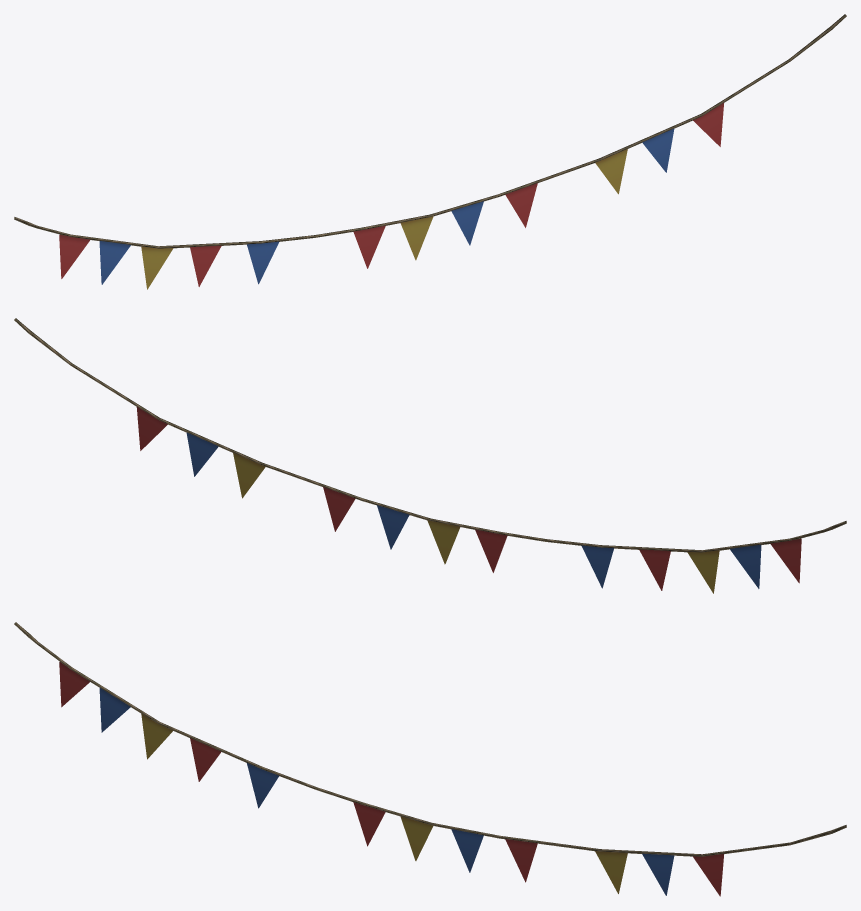
The model's file is scene_luoliante_caidai001.FBX.
The picture shows the model from 3 angles, top to bottom: view 1: azimuth 30°, elevation 25°; view 2: azimuth 150°, elevation 25°; view 3: azimuth 330°, elevation 25°; orthographic projection.
Visible parts, largest first — view 1: scene_luoliante_caidai001; view 2: scene_luoliante_caidai001; view 3: scene_luoliante_caidai001.
Boxes of the visible parts, x1,y1,x2,y2 form: scene_luoliante_caidai001: [14, 14, 846, 289]; scene_luoliante_caidai001: [14, 318, 846, 593]; scene_luoliante_caidai001: [14, 622, 846, 896].
Bounding box in the file's own units: 616 × 99.81 × 2.36.
